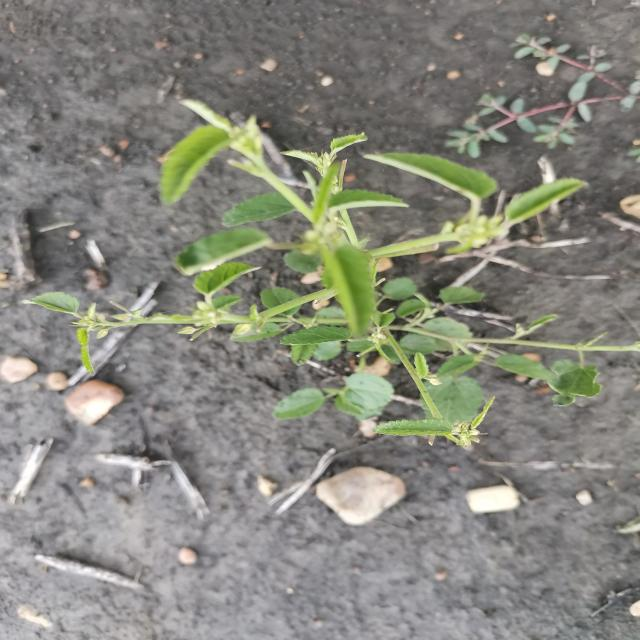PricklySida: (17, 96, 635, 450)
SpottedSpurge: (443, 30, 638, 158)
